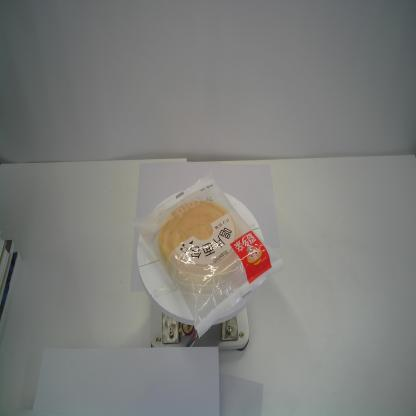Dessert: (133, 171, 286, 339)
